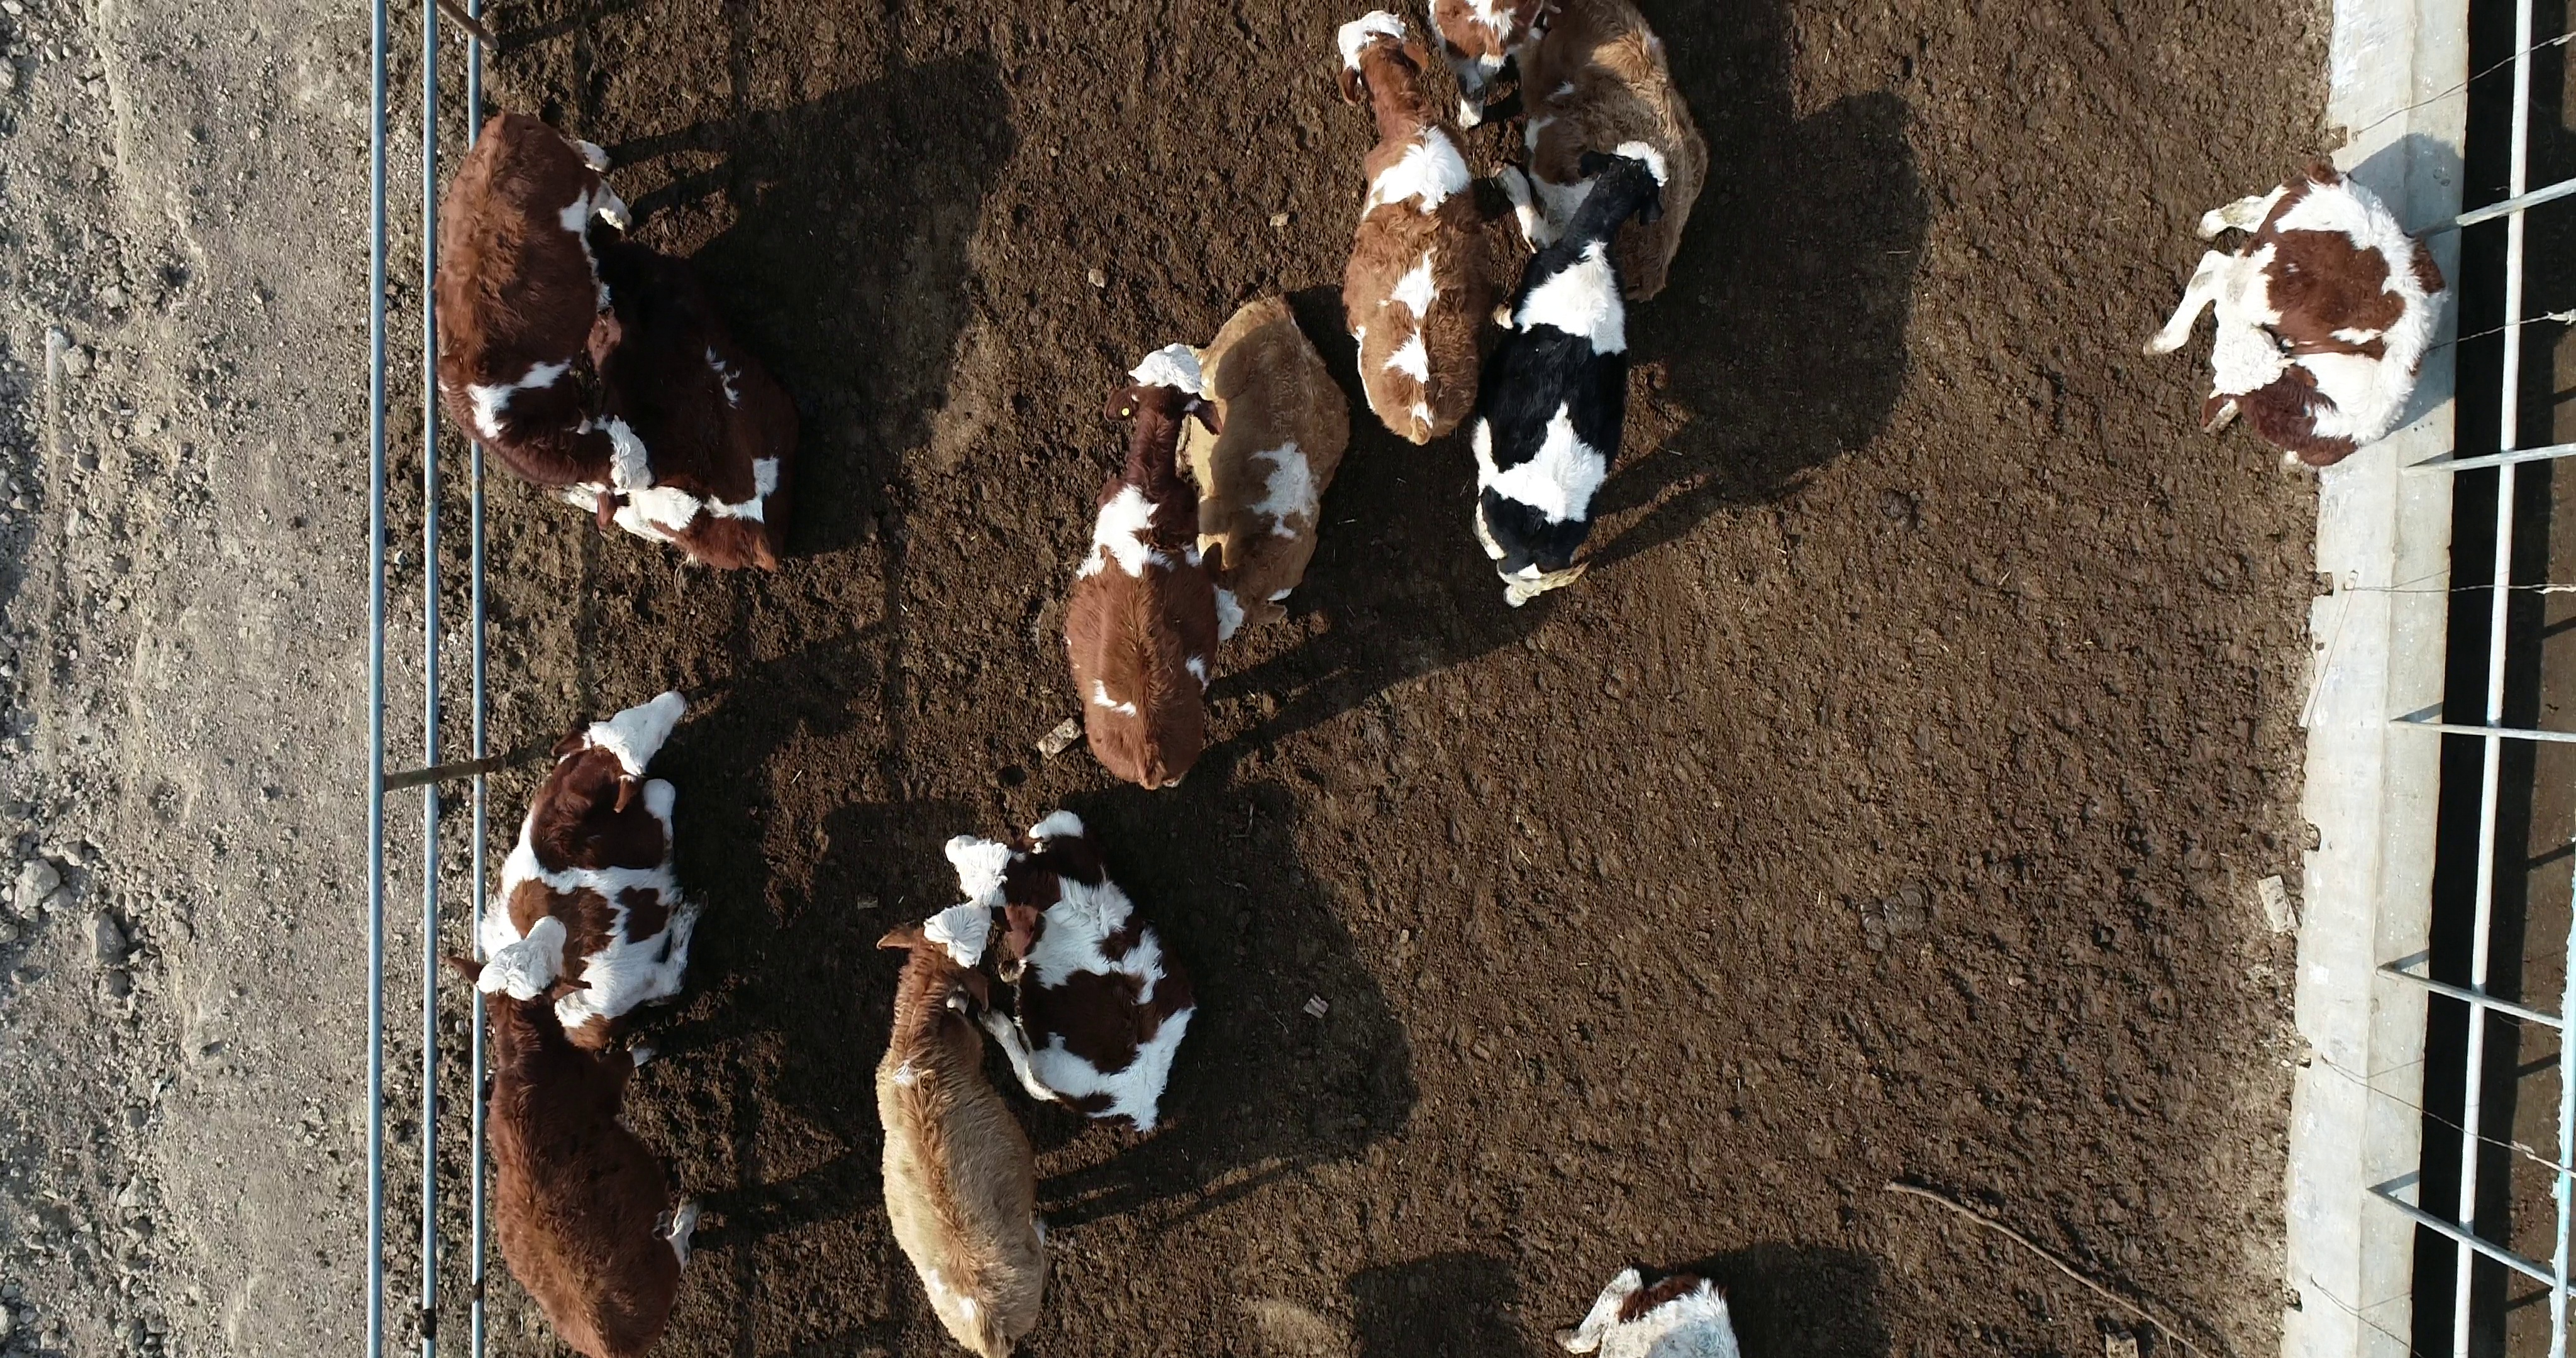cattle: (445, 913, 707, 1358), (1462, 136, 1680, 613), (428, 107, 659, 533), (937, 809, 1206, 1143), (865, 896, 1055, 1358), (1056, 337, 1228, 799), (1332, 9, 1503, 455), (1181, 291, 1358, 654)
